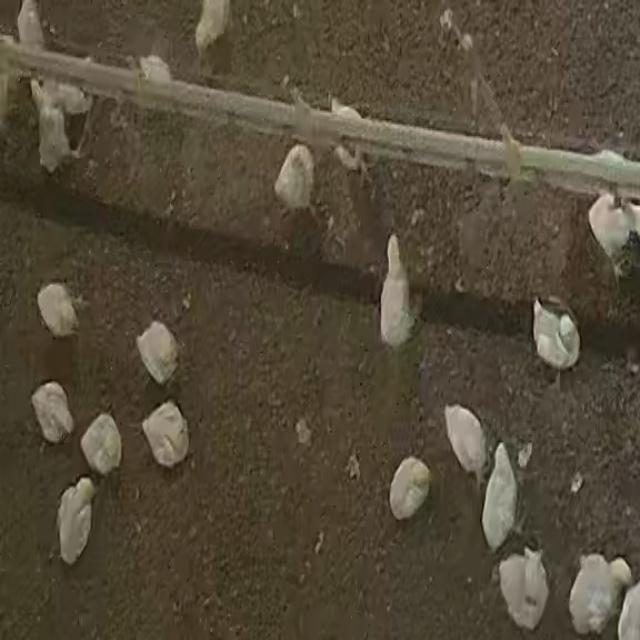chicken: (568, 552, 632, 635), (376, 232, 420, 352), (478, 435, 521, 551), (137, 396, 196, 475), (437, 398, 491, 484), (498, 546, 550, 630), (532, 295, 580, 371), (132, 316, 183, 385), (56, 478, 96, 563), (30, 381, 76, 445), (79, 412, 124, 477), (388, 456, 431, 521), (274, 144, 314, 212), (37, 282, 81, 340)
